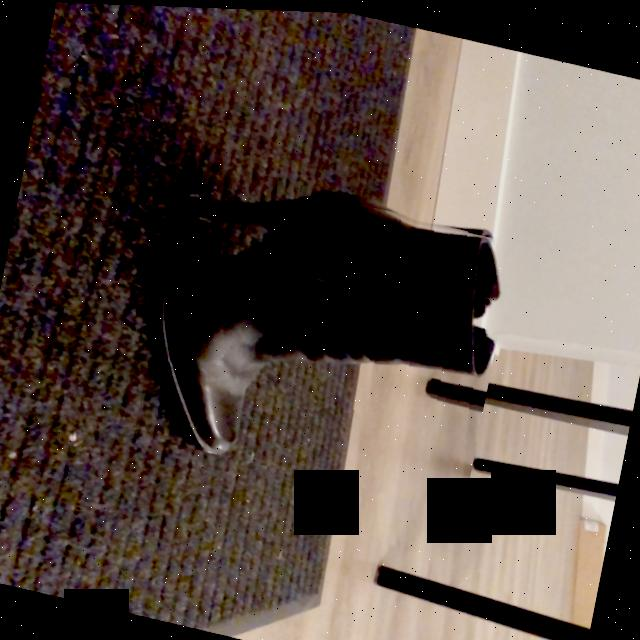shoe: (164, 194, 503, 454)
